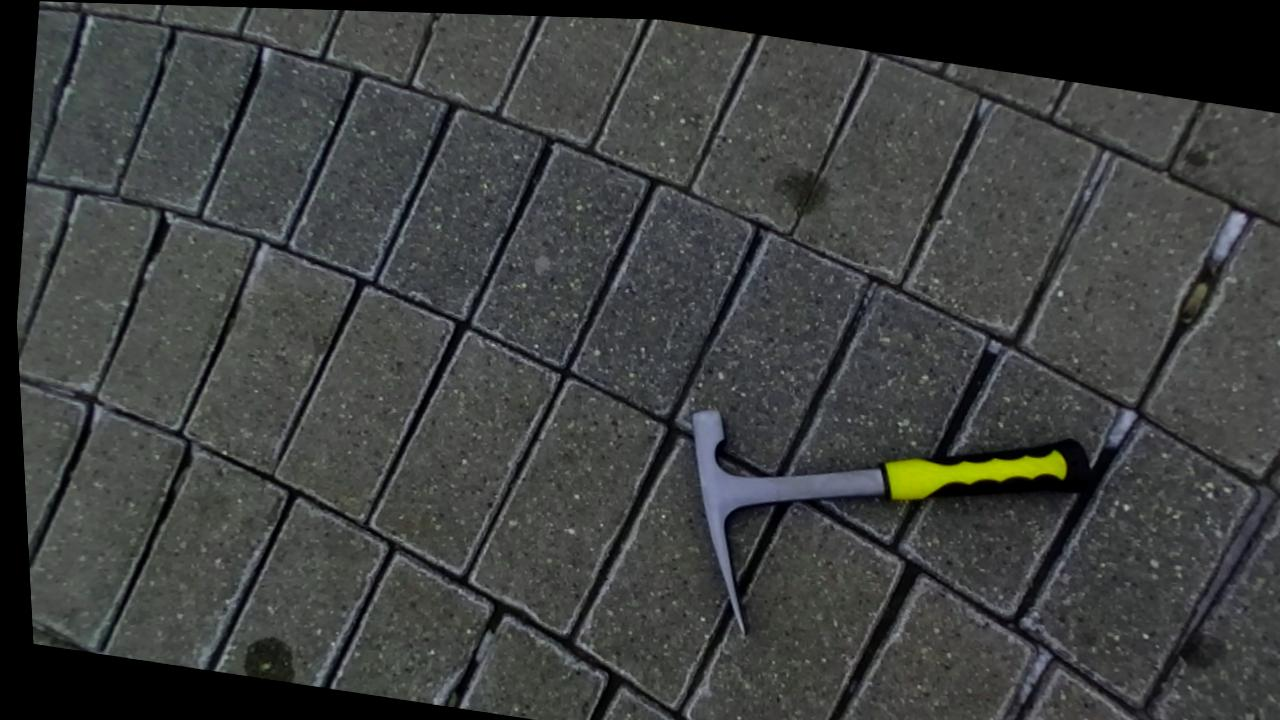pick: (693, 409, 1091, 634)
